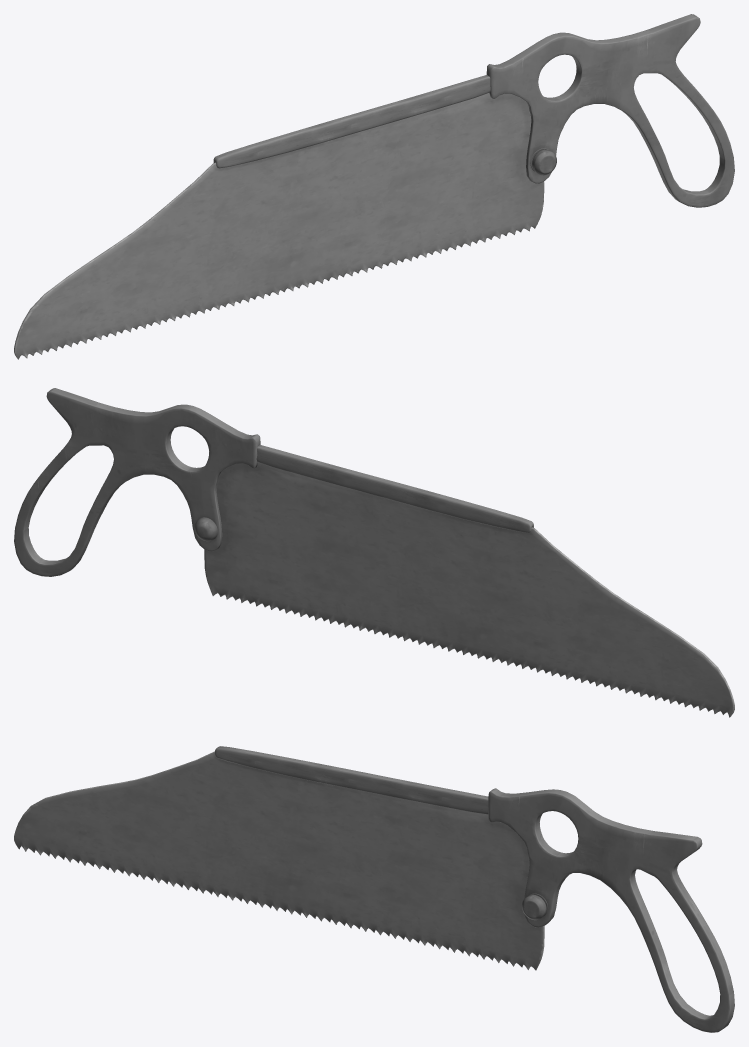
File: surgical_saw.glb
The picture shows the model from 3 angles, top to bottom: view 1: azimuth 30°, elevation 25°; view 2: azimuth 150°, elevation 25°; view 3: azimuth 330°, elevation 25°; orthographic projection.
Parts seen in each view (by area): view 1: Saw_3, Saw_1, Saw_2, Saw_4; view 2: Saw_3, Saw_1, Saw_2; view 3: Saw_3, Saw_1, Saw_2, Saw_4.
Part boxes in pixels (bbox=[...]): Saw_3: bbox=[14, 93, 544, 359]; Saw_1: bbox=[486, 14, 734, 207]; Saw_2: bbox=[213, 75, 490, 168]; Saw_4: bbox=[530, 148, 556, 175]; Saw_3: bbox=[204, 462, 734, 717]; Saw_1: bbox=[14, 388, 260, 576]; Saw_2: bbox=[256, 445, 533, 532]; Saw_3: bbox=[14, 751, 544, 970]; Saw_1: bbox=[488, 788, 734, 1032]; Saw_2: bbox=[215, 746, 488, 814]; Saw_4: bbox=[522, 893, 547, 920].
Size of the model in its own units: 1003 by 273 by 38.23.
4 materials, 4 textured.
